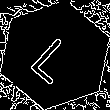L_NE: (26, 26, 84, 84)
